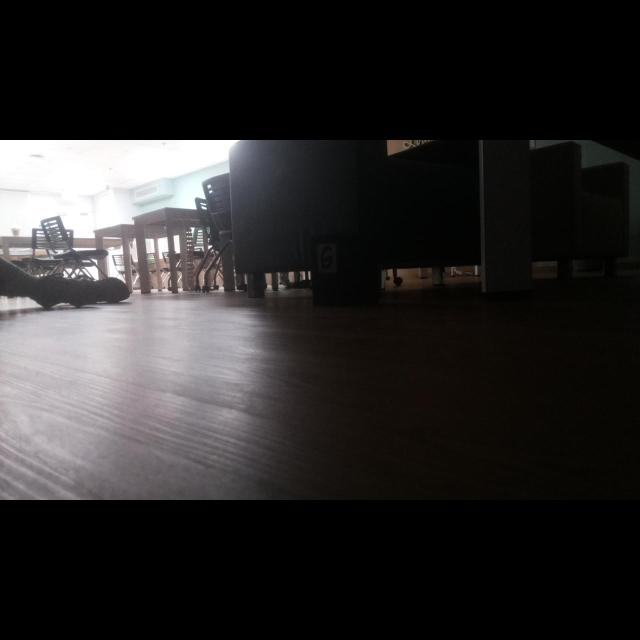G: (321, 246, 334, 269)
